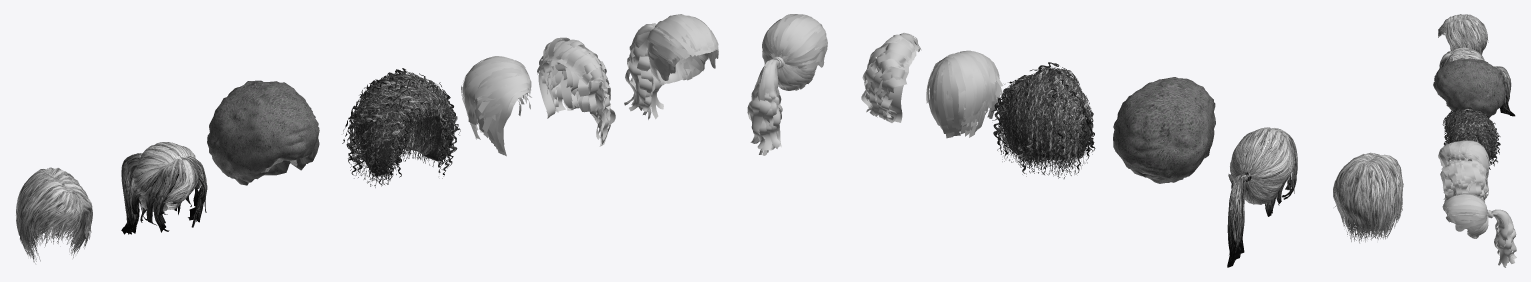
Rendered from Hair.FBX.
The picture shows the model from 3 angles, left to right: view 1: azimuth 30°, elevation 25°; view 2: azimuth 150°, elevation 25°; view 3: azimuth 270°, elevation 25°; orthographic projection. The views are drawn at different scales.
Parts seen in each view (by area): view 1: F_Hair_04, F_Hair_03, F_Hair_08, F_Hair_02_Zombie_F_Hair_02, F_Hair_01_Zombie_F_Hair_01, F_Hair_06, F_Hair_05; view 2: F_Hair_03, F_Hair_04, F_Hair_08, F_Hair_02_Zombie_F_Hair_02, F_Hair_05, F_Hair_01_Zombie_F_Hair_01, F_Hair_06; view 3: F_Hair_03, F_Hair_08, F_Hair_04, F_Hair_06, F_Hair_01_Zombie_F_Hair_01, F_Hair_05, F_Hair_02_Zombie_F_Hair_02.
Boxes of the visible parts, bbox=[...] form: F_Hair_04: bbox=[342, 68, 460, 187]; F_Hair_03: bbox=[207, 80, 319, 185]; F_Hair_08: bbox=[624, 14, 718, 119]; F_Hair_02_Zombie_F_Hair_02: bbox=[121, 142, 207, 234]; F_Hair_01_Zombie_F_Hair_01: bbox=[16, 167, 92, 263]; F_Hair_06: bbox=[537, 37, 615, 146]; F_Hair_05: bbox=[461, 56, 531, 156]; F_Hair_03: bbox=[1113, 77, 1215, 183]; F_Hair_04: bbox=[990, 62, 1095, 178]; F_Hair_08: bbox=[747, 14, 827, 155]; F_Hair_02_Zombie_F_Hair_02: bbox=[1227, 127, 1297, 267]; F_Hair_05: bbox=[926, 50, 1003, 138]; F_Hair_01_Zombie_F_Hair_01: bbox=[1333, 152, 1403, 243]; F_Hair_06: bbox=[861, 33, 921, 122]; F_Hair_03: bbox=[1433, 58, 1505, 117]; F_Hair_08: bbox=[1442, 193, 1516, 267]; F_Hair_04: bbox=[1442, 107, 1500, 169]; F_Hair_06: bbox=[1440, 158, 1488, 222]; F_Hair_01_Zombie_F_Hair_01: bbox=[1438, 14, 1488, 54]; F_Hair_05: bbox=[1438, 140, 1489, 177]; F_Hair_02_Zombie_F_Hair_02: bbox=[1439, 47, 1515, 116].
Size of the model in its own units: 209 by 45.37 by 37.92.
